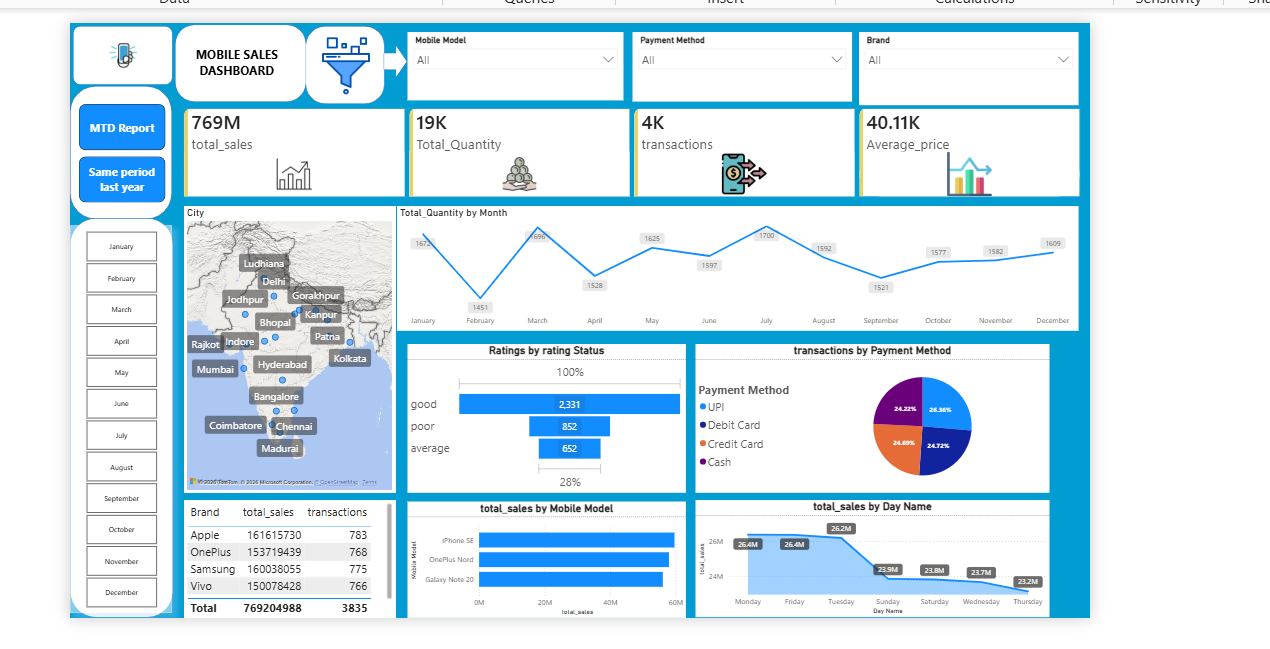

Layout of this report page (visuals, bound fields, positions):
{"tool":"powerbi","page":{"name":"Dashboard","canvas":[1701,991],"ordinal":0},"visuals":[{"type":"shape","box":[6,6,166,98],"z":0},{"type":"image","box":[27.5,12.5,122.5,87.5],"z":1000},{"type":"shape","box":[0,106,170,222],"z":2000},{"type":"shape","box":[0,326,172,666],"z":3000},{"type":"slicer","fields":{"Values":["Custom_Calendar.Date.Variation.Date Hierarchy.Month"]},"box":[0,337.5,170,645],"z":4000},{"type":"cardVisual","fields":{"Data":["mobile_sales_data.total_sales","mobile_sales_data.Total_Quantity","mobile_sales_data.transactions","mobile_sales_data.Average_price"]},"box":[172,124,1530,182],"z":5000},{"type":"slicer","fields":{"Values":["mobile_sales_data.Mobile Model"]},"box":[562,14,360,114],"z":6000},{"type":"slicer","fields":{"Values":["mobile_sales_data.Payment Method"]},"box":[938,16,366,116],"z":7000},{"type":"slicer","fields":{"Values":["mobile_sales_data.Brand"]},"box":[1314,14,366,122],"z":8000},{"type":"shape","box":[392,6,132,130],"z":9000},{"type":"image","box":[404,22,110,98],"z":10000},{"type":"shape","box":[174,2,218.7,129.2],"z":11000},{"type":"map","fields":{"Category":["mobile_sales_data.City"]},"box":[190,306,352,478],"z":12000},{"type":"shape","box":[522,34,40,58],"z":13000},{"type":"lineChart","fields":{"Y":["mobile_sales_data.Total_Quantity"],"Category":["Custom_Calendar.Date.Variation.Date Hierarchy.Month"]},"box":[544,306,1136,208],"z":14000},{"type":"funnel","title":"  Ratings by rating  Status","fields":{"Y":["CountNonNull(mobile_sales_data.Payment Method)"],"Category":["mobile_sales_data.Rating Status"]},"box":[562,536,464,248],"z":15000},{"type":"pieChart","fields":{"Y":["mobile_sales_data.transactions"],"Category":["mobile_sales_data.Payment Method"]},"box":[1042,536,590,248],"z":16000},{"type":"clusteredBarChart","fields":{"Y":["mobile_sales_data.total_sales"],"Category":["mobile_sales_data.Mobile Model"]},"box":[562,798,464,194],"z":17000},{"type":"areaChart","fields":{"Category":["Custom_Calendar.Day Name"],"Y":["mobile_sales_data.total_sales"]},"box":[1042.5,795,590,195],"z":18000},{"type":"tableEx","fields":{"Values":["mobile_sales_data.Brand","mobile_sales_data.total_sales","mobile_sales_data.transactions"]},"box":[190,795,351.7,196.7],"z":19000},{"type":"pageNavigator","box":[14,134,144,164],"z":20000},{"type":"actionButton","box":[190,22,176,84],"z":21000}]}

Visuals, with their boxes on the page's 1701x991 design canvas (x1, y1, x2, y2). These are canvas units, not pixel positions in the 1270x649 screenshot, which may show the page scaled, cropped or inside an application window:
shape: (left=6, top=6, right=172, bottom=104)
image: (left=28, top=12, right=150, bottom=100)
shape: (left=0, top=106, right=170, bottom=328)
shape: (left=0, top=326, right=172, bottom=992)
slicer - Custom_Calendar.Date.Variation.Date Hierarchy.Month: (left=0, top=338, right=170, bottom=982)
cardVisual - mobile_sales_data.total_sales x mobile_sales_data.Total_Quantity: (left=172, top=124, right=1702, bottom=306)
slicer - mobile_sales_data.Mobile Model: (left=562, top=14, right=922, bottom=128)
slicer - mobile_sales_data.Payment Method: (left=938, top=16, right=1304, bottom=132)
slicer - mobile_sales_data.Brand: (left=1314, top=14, right=1680, bottom=136)
shape: (left=392, top=6, right=524, bottom=136)
image: (left=404, top=22, right=514, bottom=120)
shape: (left=174, top=2, right=393, bottom=131)
map - mobile_sales_data.City: (left=190, top=306, right=542, bottom=784)
shape: (left=522, top=34, right=562, bottom=92)
lineChart - mobile_sales_data.Total_Quantity x Custom_Calendar.Date.Variation.Date Hierarchy.Month: (left=544, top=306, right=1680, bottom=514)
"  Ratings by rating  Status" funnel: (left=562, top=536, right=1026, bottom=784)
pieChart - mobile_sales_data.transactions x mobile_sales_data.Payment Method: (left=1042, top=536, right=1632, bottom=784)
clusteredBarChart - mobile_sales_data.total_sales x mobile_sales_data.Mobile Model: (left=562, top=798, right=1026, bottom=992)
areaChart - Custom_Calendar.Day Name x mobile_sales_data.total_sales: (left=1042, top=795, right=1632, bottom=990)
tableEx - mobile_sales_data.Brand x mobile_sales_data.total_sales: (left=190, top=795, right=542, bottom=992)
pageNavigator: (left=14, top=134, right=158, bottom=298)
actionButton: (left=190, top=22, right=366, bottom=106)
